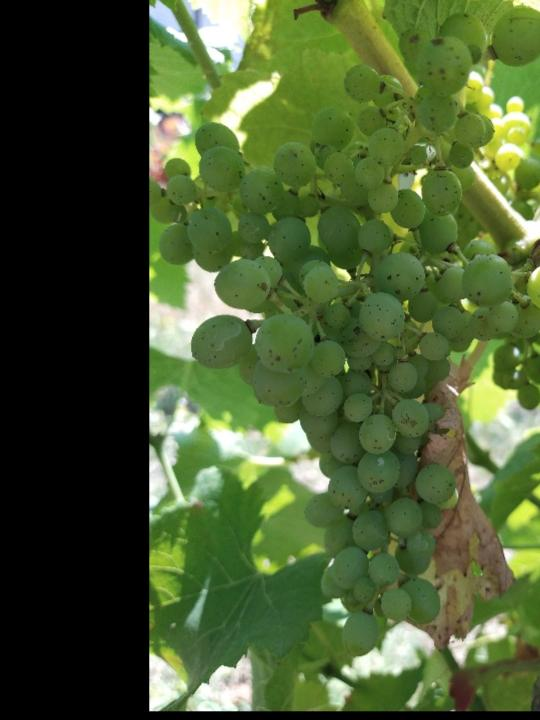grape: (155, 4, 540, 658)
